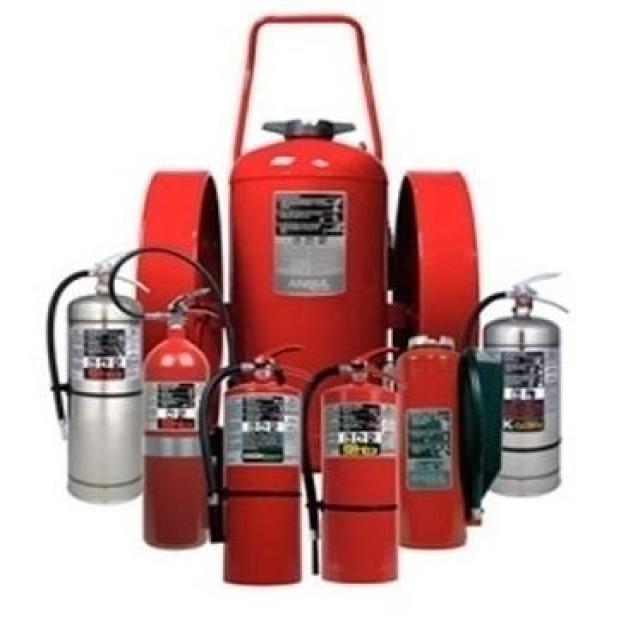fire_extinguisher: (217, 109, 401, 478), (105, 242, 259, 552), (39, 242, 155, 512), (194, 340, 316, 590), (448, 264, 575, 502), (298, 342, 408, 586), (383, 330, 471, 554)
